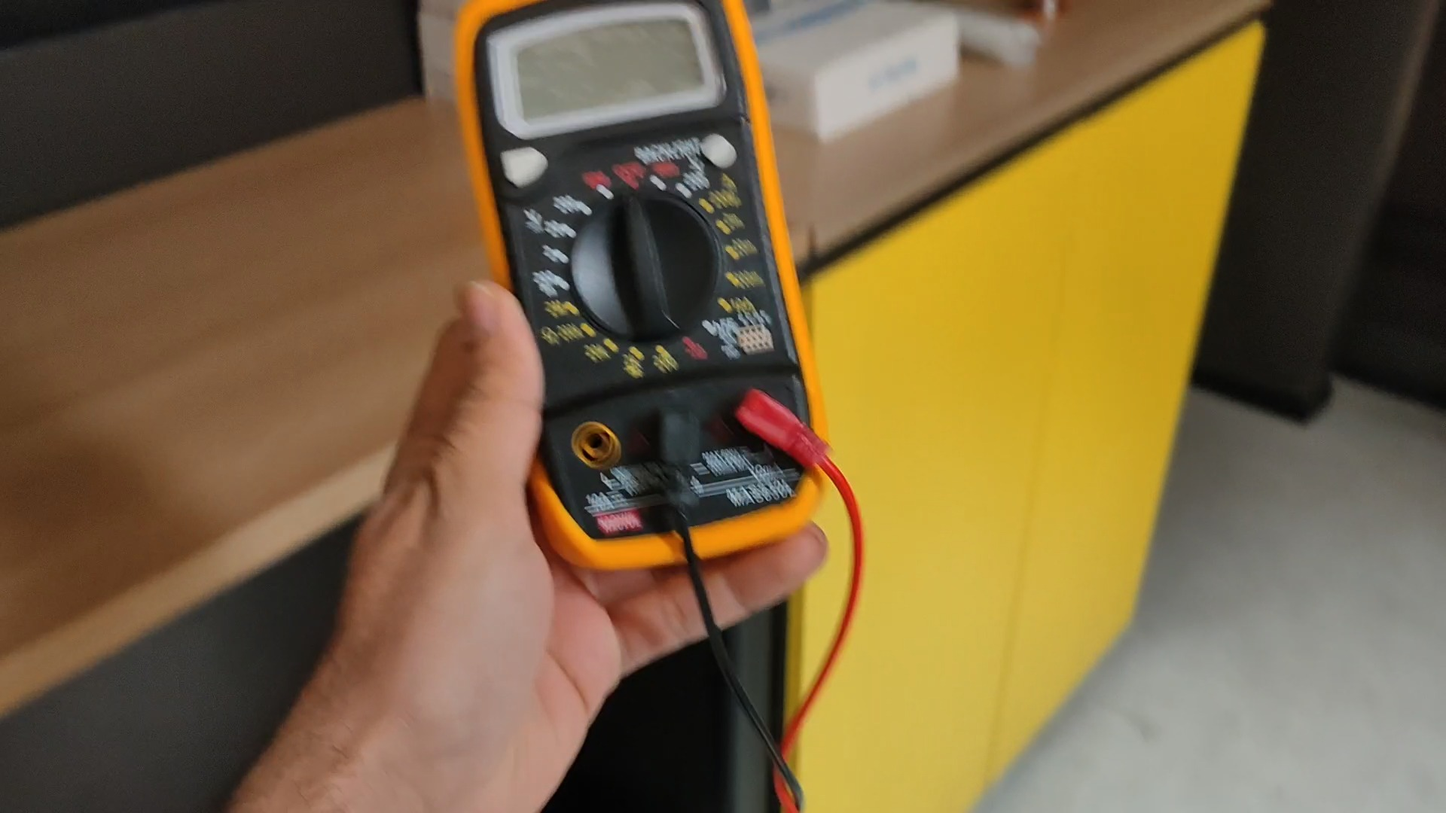multimeter: (454, 0, 825, 570)
